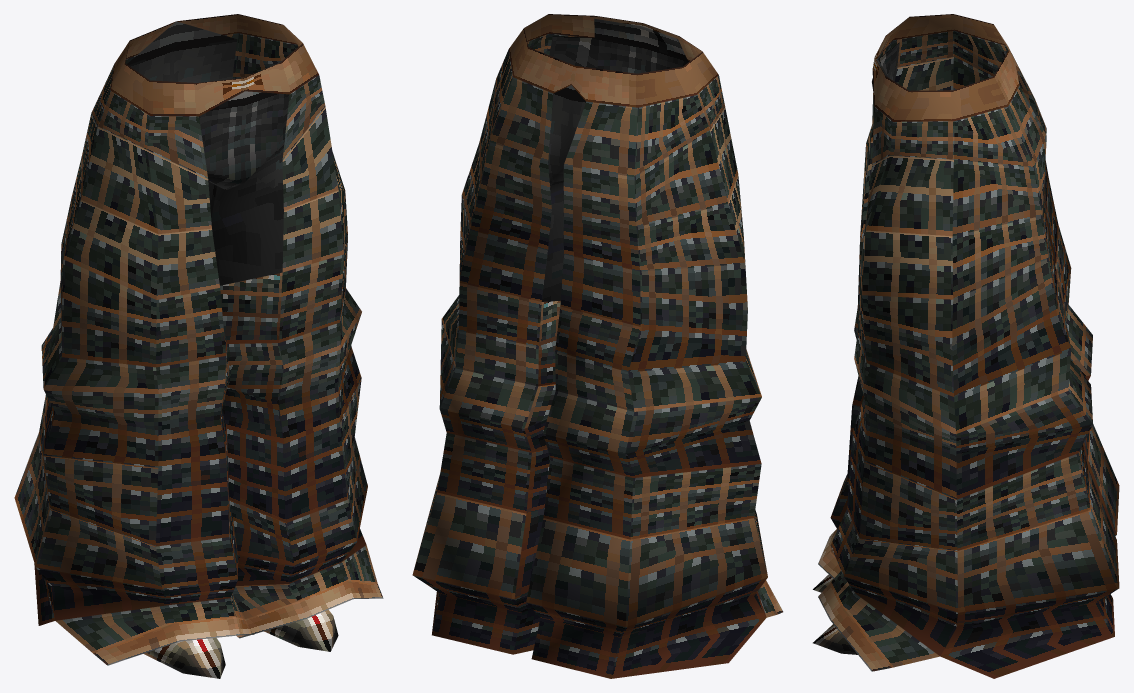
The model's file is m_reg022.glb.
3 views of the same model, side by side, from view 1: azimuth 30°, elevation 25°; view 2: azimuth 150°, elevation 25°; view 3: azimuth 270°, elevation 25° (orthographic).
Size of the model in its own units: 65.48 by 108 by 52.89.
Materials: 1 (1 with a texture image).
